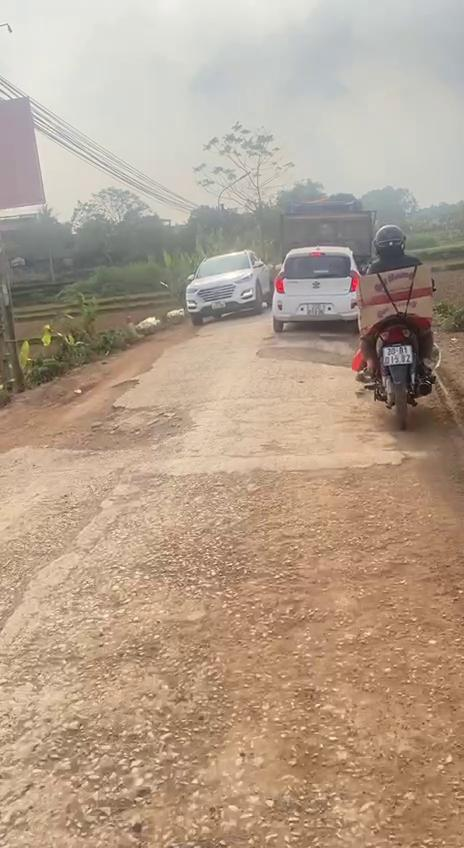pothole: (37, 694, 248, 839), (36, 379, 196, 452), (256, 345, 358, 372)
